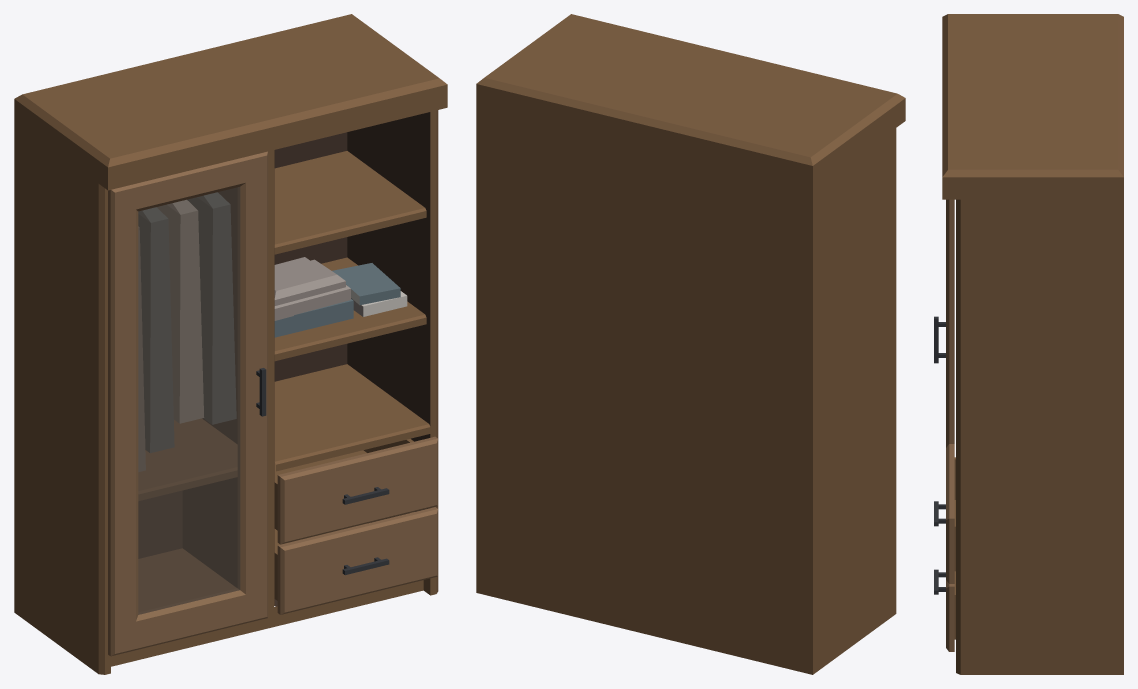
File: dorm-wardrobe-b10546.glb
3 renders of one model, left to right at view 1: azimuth 30°, elevation 25°; view 2: azimuth 150°, elevation 25°; view 3: azimuth 270°, elevation 25°, orthographic. The views are drawn at different scales.
Visible parts, largest first — view 1: wardrobe-case, door-glass, door-mesh, dressing-mesh, drawer-2-mesh, drawer-1-mesh; view 2: wardrobe-case; view 3: wardrobe-case, door-mesh, drawer-2-mesh, drawer-1-mesh.
Boxes of the visible parts, x1,y1,x2,y2 form: wardrobe-case: (14, 14, 447, 674); door-glass: (138, 187, 240, 614); door-mesh: (108, 151, 268, 656); dressing-mesh: (138, 192, 407, 471); drawer-2-mesh: (274, 436, 437, 544); drawer-1-mesh: (274, 507, 437, 614); wardrobe-case: (476, 14, 905, 674); wardrobe-case: (942, 14, 1123, 674); door-mesh: (934, 199, 954, 447); drawer-2-mesh: (934, 444, 955, 583); drawer-1-mesh: (934, 569, 955, 651).
Bounding box in the file's own units: 1 × 1.46 × 0.5.
